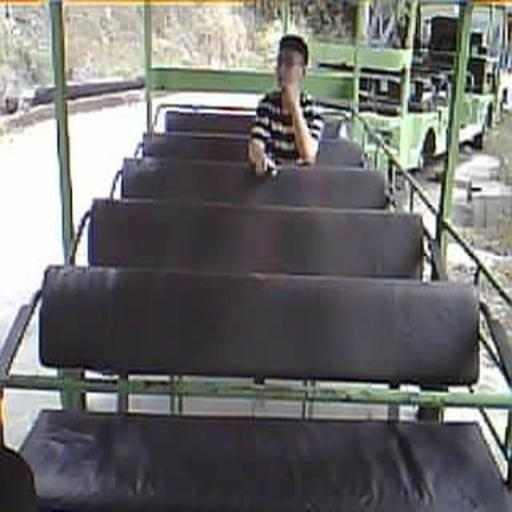persona: (246, 34, 328, 176)
